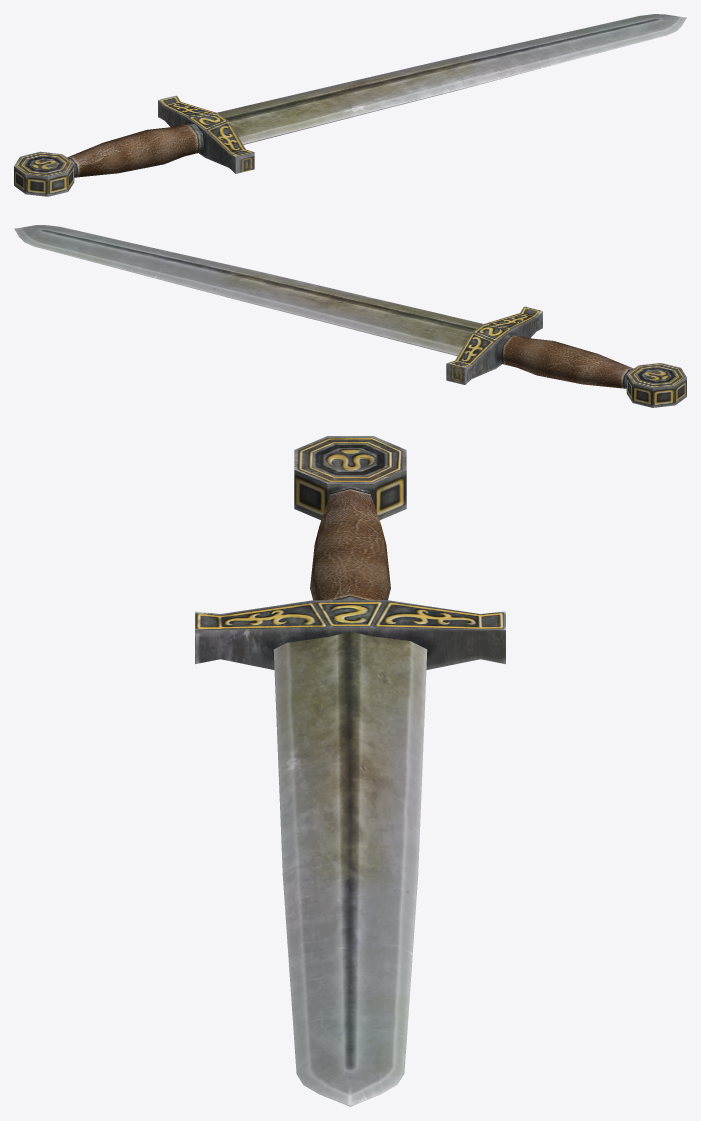
Rendered from ShortSword.FBX.
The picture shows the model from 3 angles, top to bottom: view 1: azimuth 30°, elevation 25°; view 2: azimuth 150°, elevation 25°; view 3: azimuth 270°, elevation 25°; orthographic projection. The views are drawn at different scales.
Visible parts, largest first — view 1: Sword2; view 2: Sword2; view 3: Sword2.
Part boxes in pixels (x1,y1,x2,y2): Sword2: (14,14,686,196); Sword2: (14,225,686,407); Sword2: (195,436,505,1106).
Bounding box in the file's own units: 1.22 × 0.054 × 0.247.
